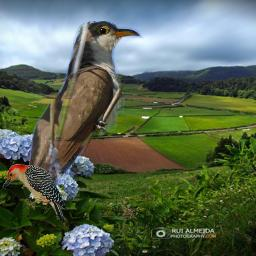Cuckoo: (29, 21, 167, 195)
Woodpecker: (2, 164, 68, 227)
